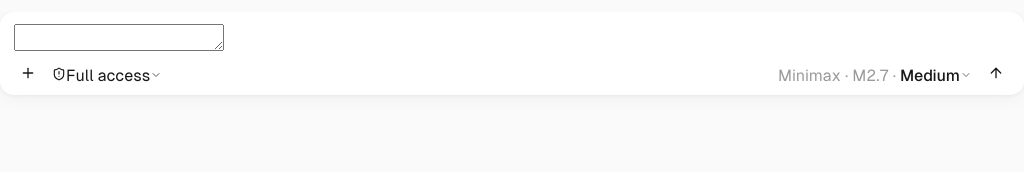
Scenario: Composer › blocks stale Skill rows when an open refresh returns another workspace
Type "$" into the text box named "message" at coordinates (119, 38), box [14,24,224,51]
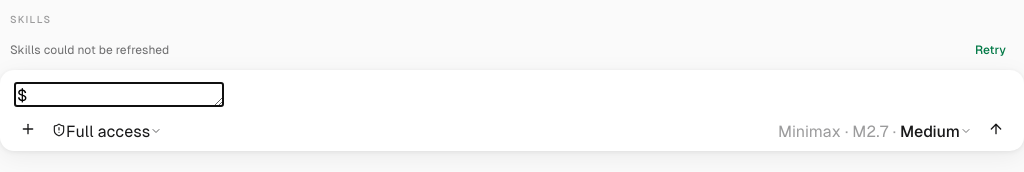
Now the text "Skills could not be refreshed" is shown, box [10,42,169,58]
